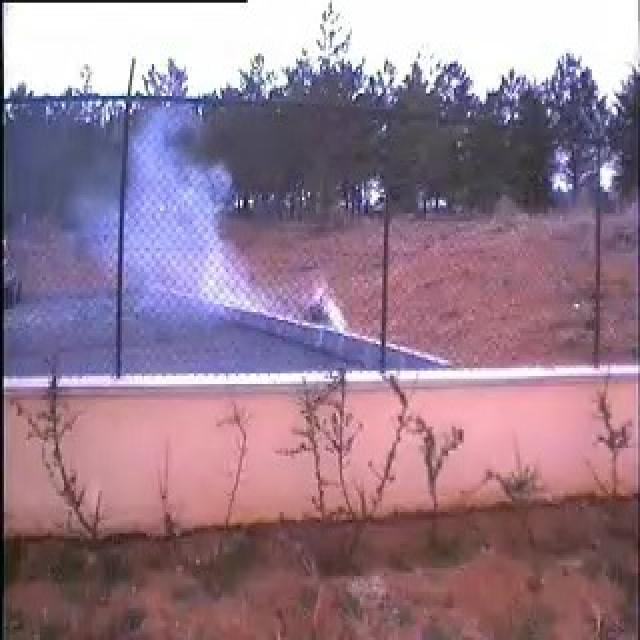Smoke: (96, 99, 276, 318)
